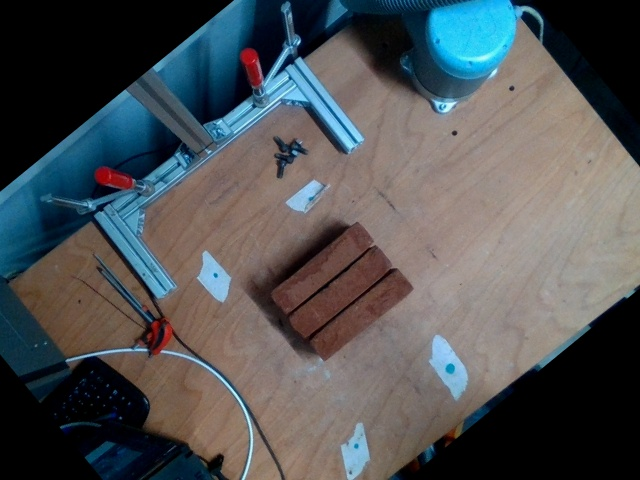brick-side: (303, 267, 413, 365), (267, 222, 377, 319), (283, 243, 392, 340)
